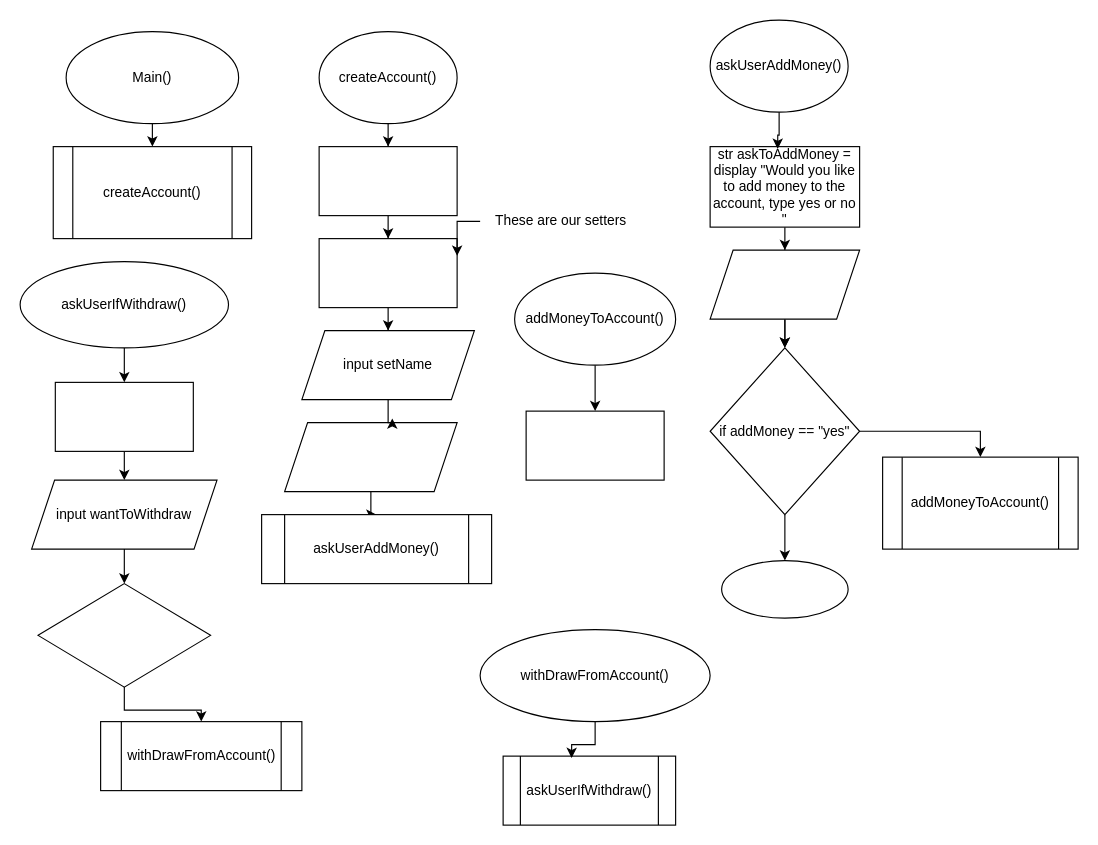
This 1098x845 diagram has some shape labels left out. The box of each missing label's shape, as (x1, y1, x2, y2) in pixels:
display "Would you like to withdraw money from your account": (54, 381, 193, 451)
double addMoney = display "Enter the amount of money you want to add": (525, 410, 664, 480)
end(): (720, 559, 848, 618)
if wantToWithdraw == "yes": (37, 582, 211, 687)
input addMoney: (709, 249, 860, 319)
input setPassword: (283, 421, 457, 492)
str setName = display "What is your full name": (318, 145, 457, 216)
Str setPassword = display "Create a password": (318, 237, 457, 308)
